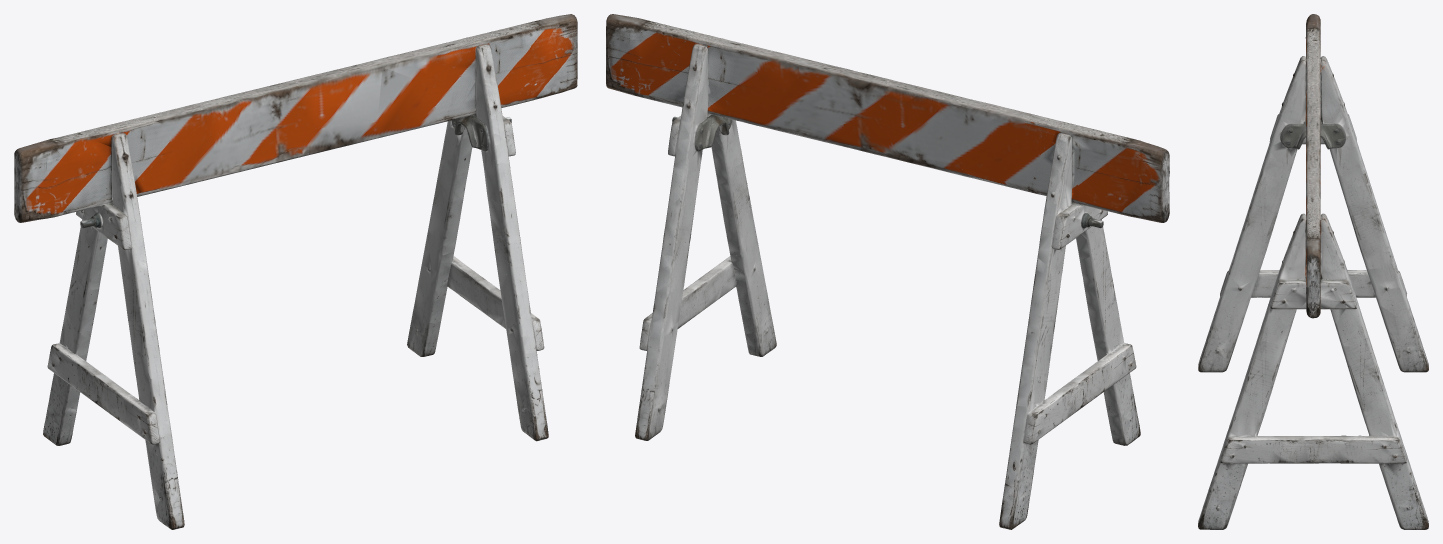
File: cavalete-de-obra__01a16c1b.glb
The picture shows the model from 3 angles, left to right: view 1: azimuth 30°, elevation 25°; view 2: azimuth 150°, elevation 25°; view 3: azimuth 270°, elevation 25°; orthographic projection. The views are drawn at different scales.
Parts seen in each view (by area): view 1: cavalete-de-obra; view 2: cavalete-de-obra; view 3: cavalete-de-obra.
Part boxes in pixels (x1,y1,x2,y2): cavalete-de-obra: (14,14,577,529); cavalete-de-obra: (606,14,1169,529); cavalete-de-obra: (1198,14,1428,529).
Size of the model in its own units: 1.8 by 1.1 by 0.7288.
1 material, 1 textured.
